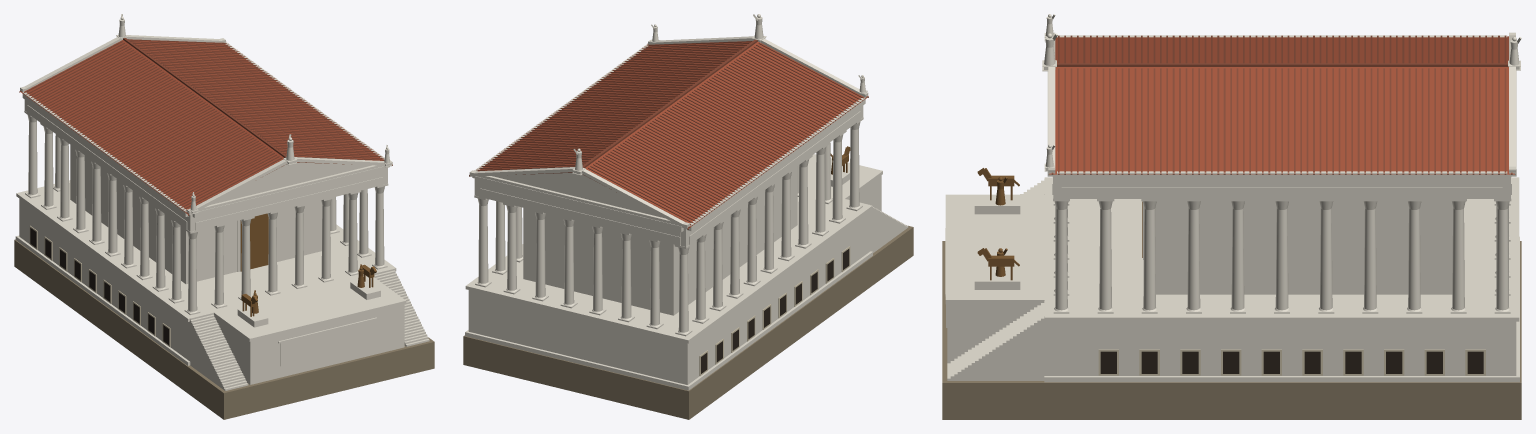
Rendered from rome_castor.glb.
3 renders of one model, left to right at view 1: azimuth 30°, elevation 25°; view 2: azimuth 150°, elevation 25°; view 3: azimuth 270°, elevation 25°, orthographic. The views are drawn at different scales.
Visible parts, largest first — view 1: rome_castor; view 2: rome_castor; view 3: rome_castor.
Part boxes in pixels (x1,y1,x2,y2): rome_castor: (14, 14, 434, 419); rome_castor: (463, 14, 913, 419); rome_castor: (942, 14, 1521, 419).
Size of the model in its own units: 33 by 34.31 by 56.88.
